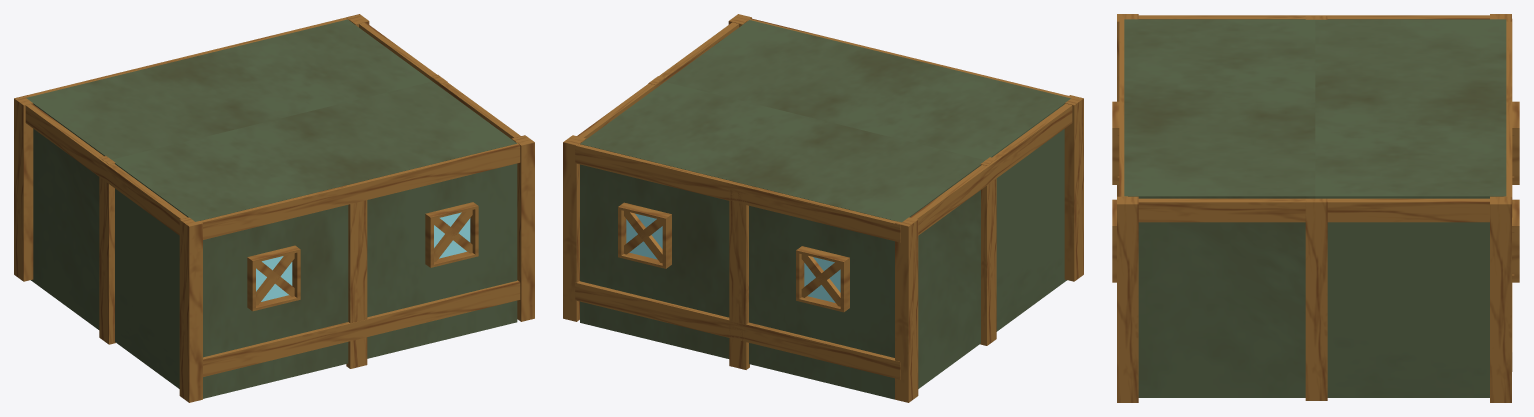
The model's file is Apartment3.fbx.
The picture shows the model from 3 angles, left to right: view 1: azimuth 30°, elevation 25°; view 2: azimuth 150°, elevation 25°; view 3: azimuth 270°, elevation 25°; orthographic projection. The views are drawn at different scales.
Visible parts, largest first — view 1: polySurface1288; view 2: polySurface1288; view 3: polySurface1288.
Boxes of the visible parts, left/top/right/bottom form: polySurface1288: left=14, top=14, right=534, bottom=402; polySurface1288: left=563, top=14, right=1083, bottom=402; polySurface1288: left=1112, top=14, right=1519, bottom=402.
Size of the model in its own units: 1.81 by 0.9153 by 1.64.
